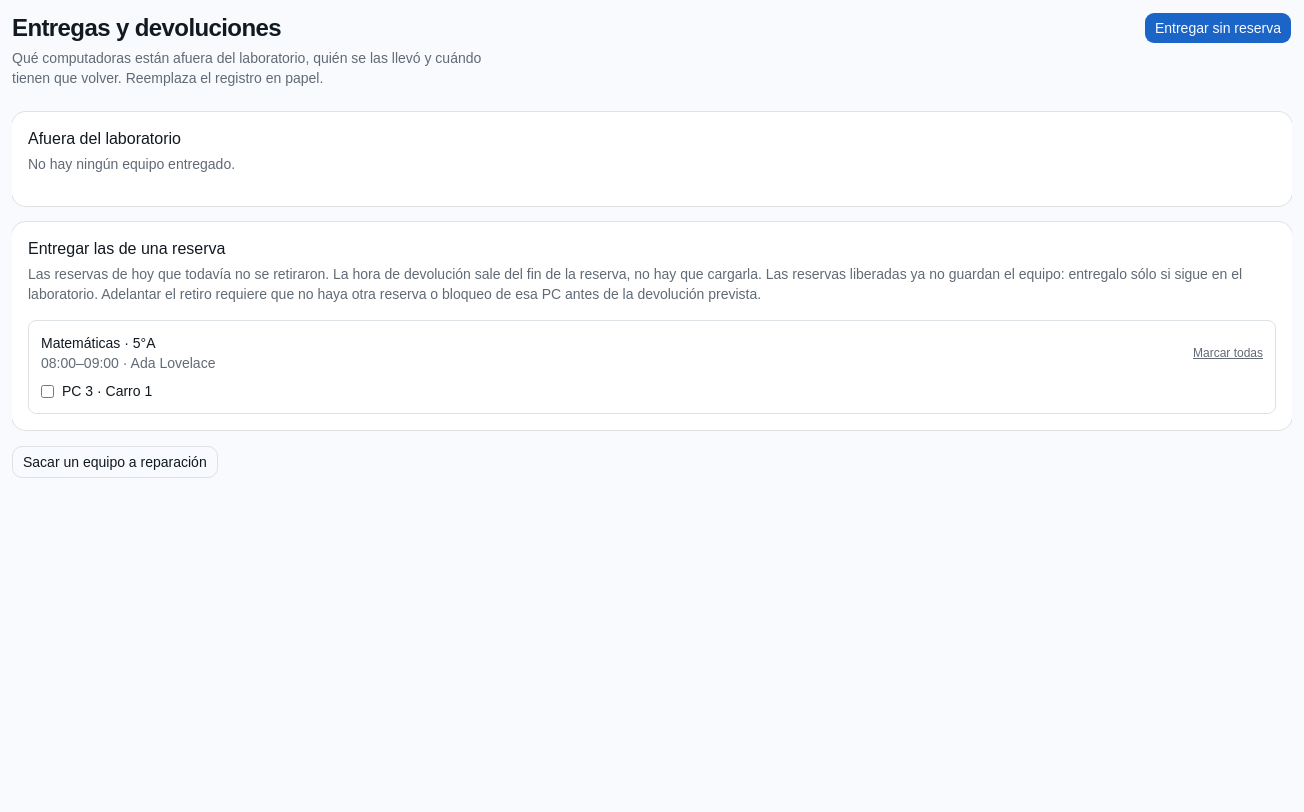
Scenario: EntregasPage › avisa si el equipo que se entrega tiene una reserva de otro encima
The width and height of the screenshot is (1304, 812).
Click the button "Marcar todas".
click(1228, 353)  # box 1193,345 -> 1263,361
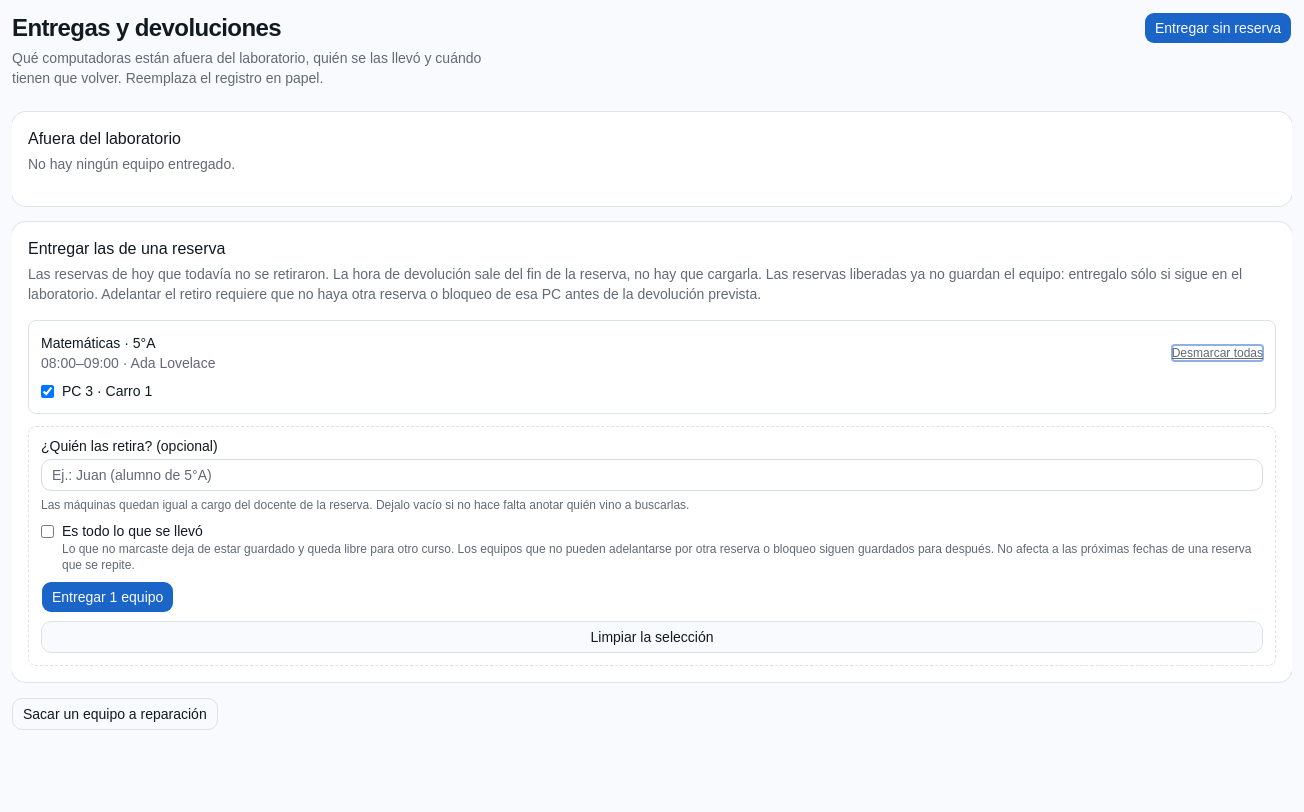
Click the button "Entregar 1 equipo".
click(108, 597)  # box 41,581 -> 174,613
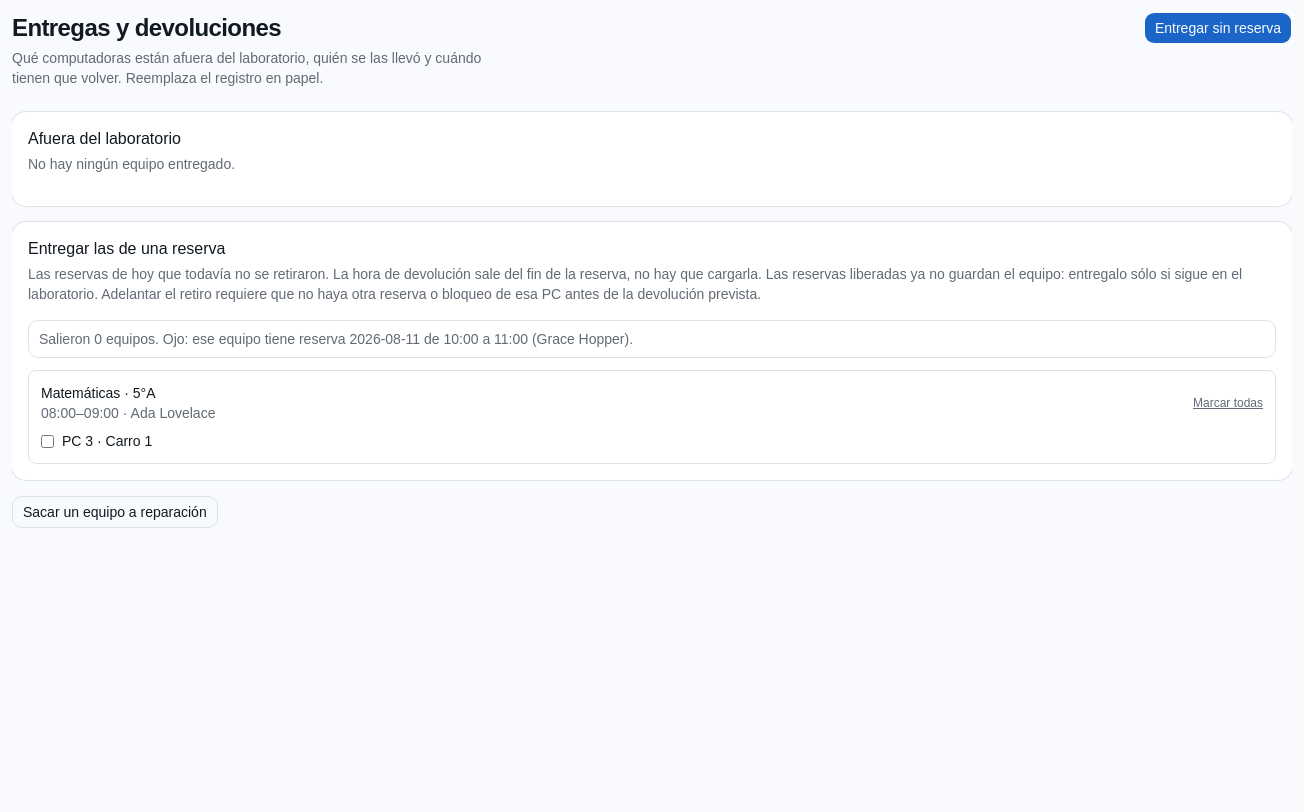
Expected: the text "tiene reserva" is shown, 39,331 -> 633,347
